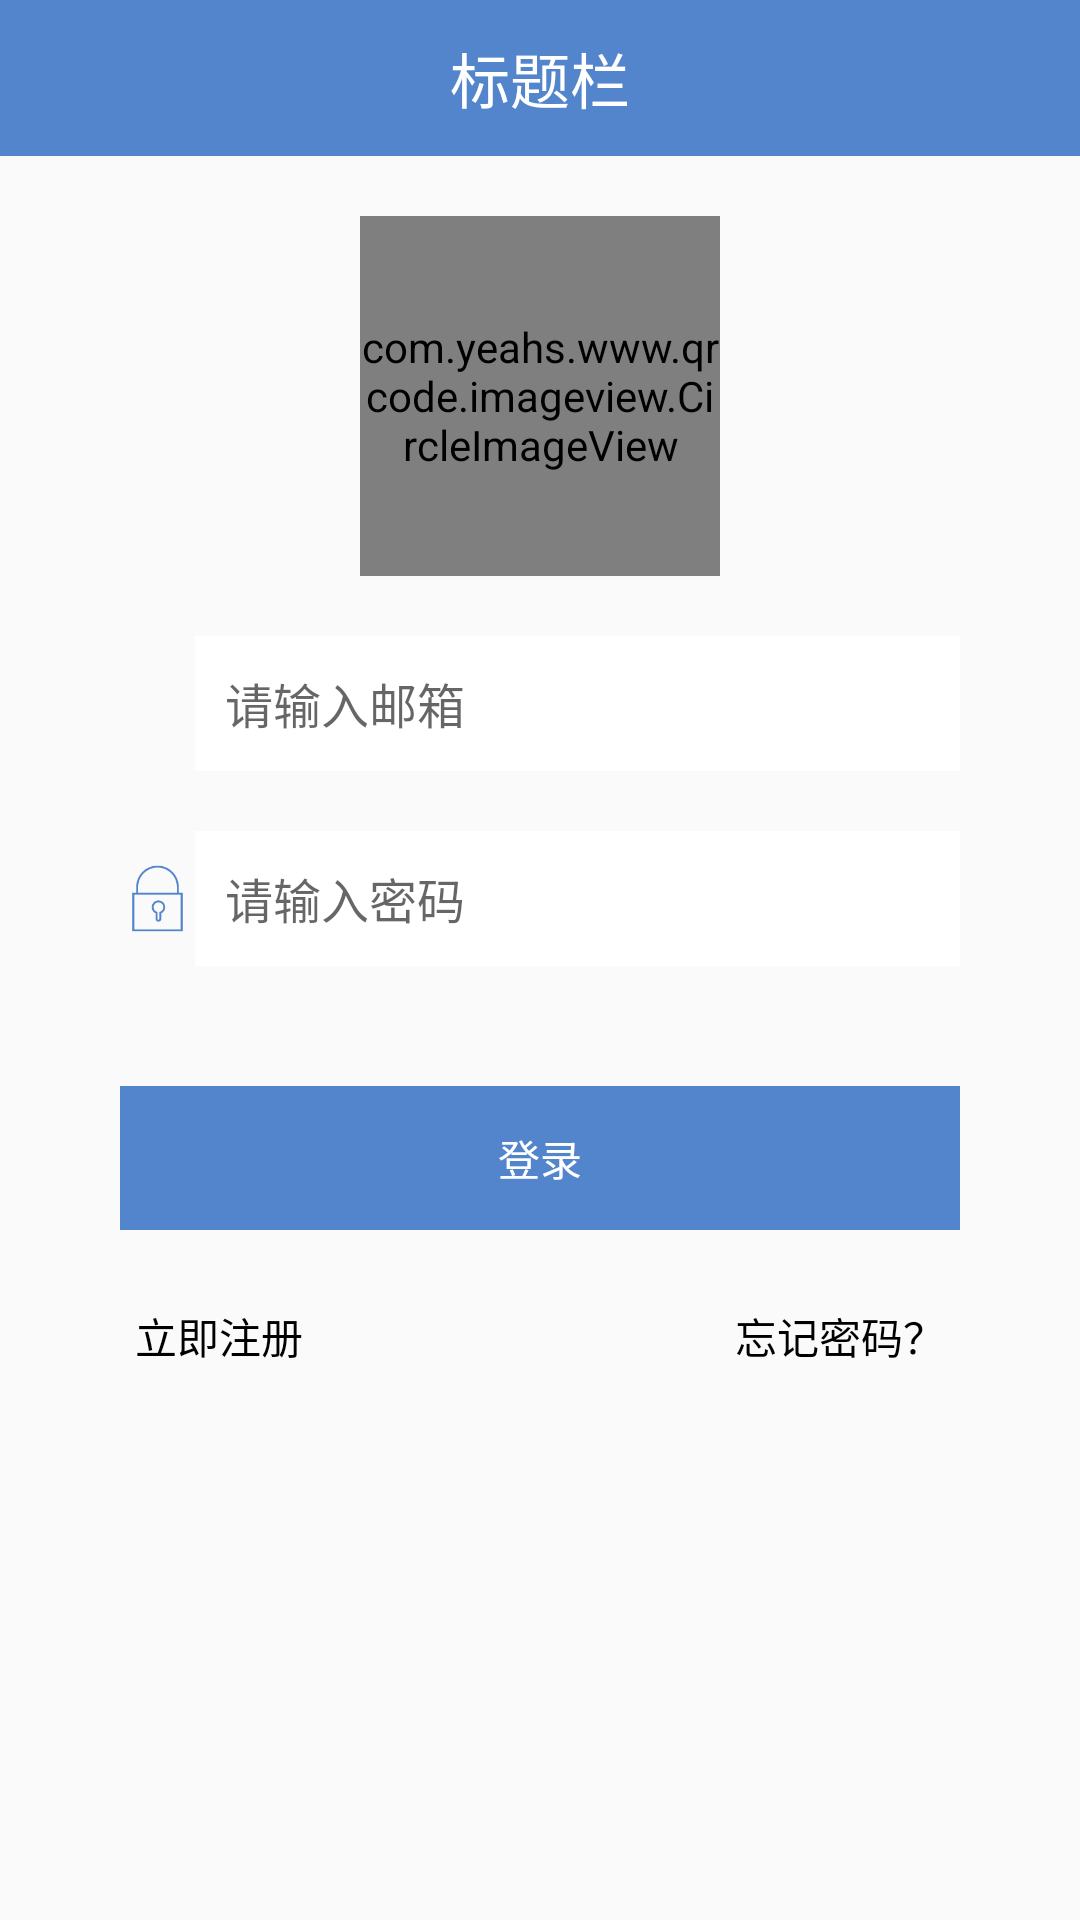

Icons on this 1080×1920 Android screen, each with its box as (x1, y1, x2, y2):
lock: (132, 865, 183, 932)
